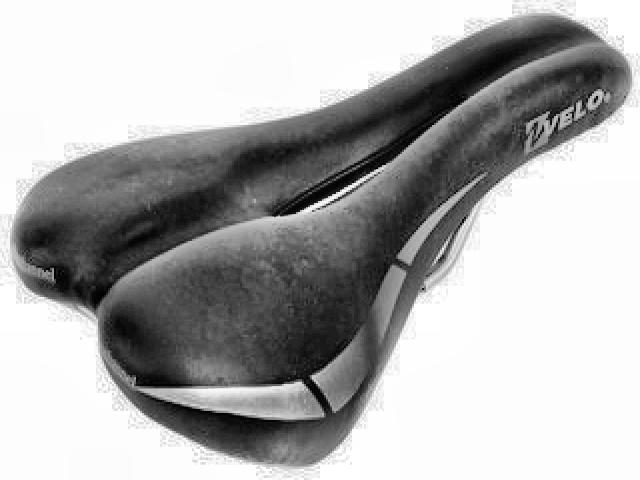saddle: (11, 13, 634, 468)
